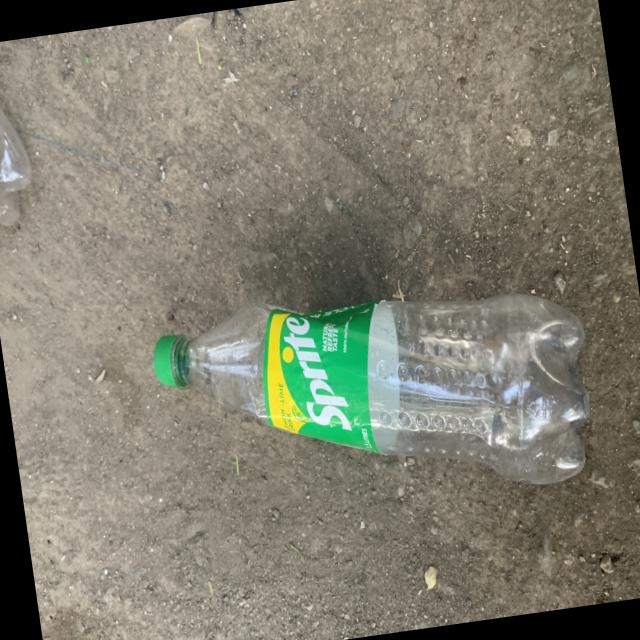Bottle: (153, 295, 588, 484)
